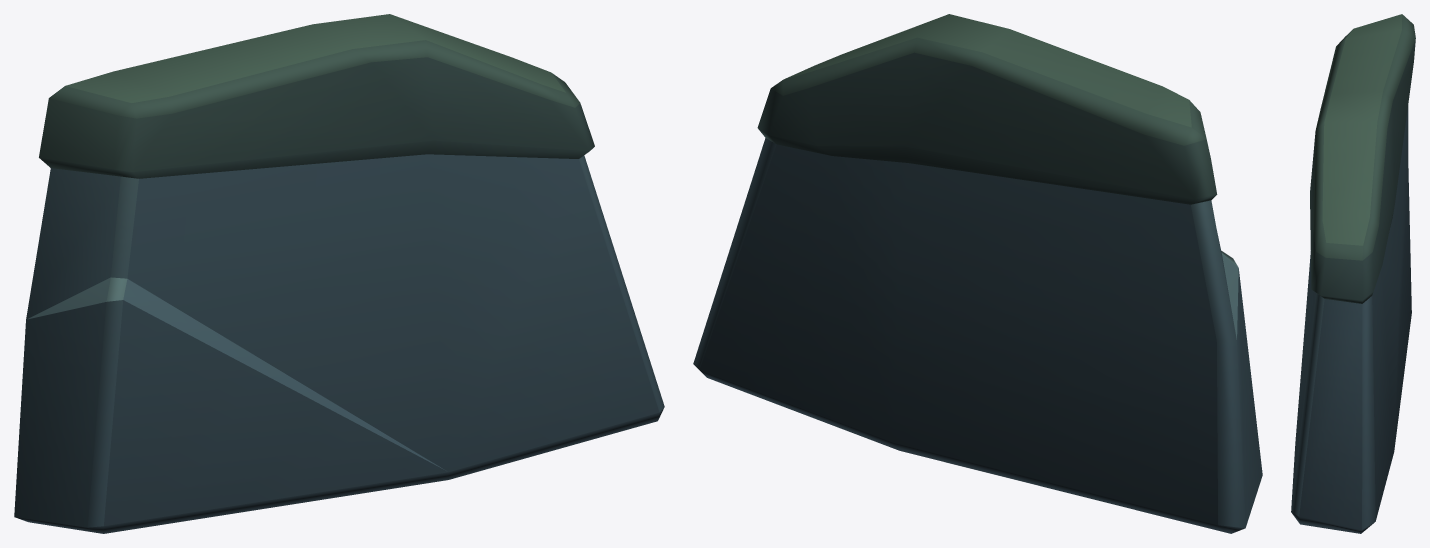
File: rock_large_grass_04.fbx
The picture shows the model from 3 angles, left to right: view 1: azimuth 30°, elevation 25°; view 2: azimuth 150°, elevation 25°; view 3: azimuth 270°, elevation 25°; orthographic projection. The views are drawn at different scales.
Parts seen in each view (by area): view 1: rock_large_grass_04; view 2: rock_large_grass_04; view 3: rock_large_grass_04.
Boxes of the visible parts, x1,y1,x2,y2 form: rock_large_grass_04: (14, 14, 664, 533); rock_large_grass_04: (693, 14, 1262, 533); rock_large_grass_04: (1291, 14, 1415, 533).
Bounding box in the file's own units: 1140 × 798 × 265.
